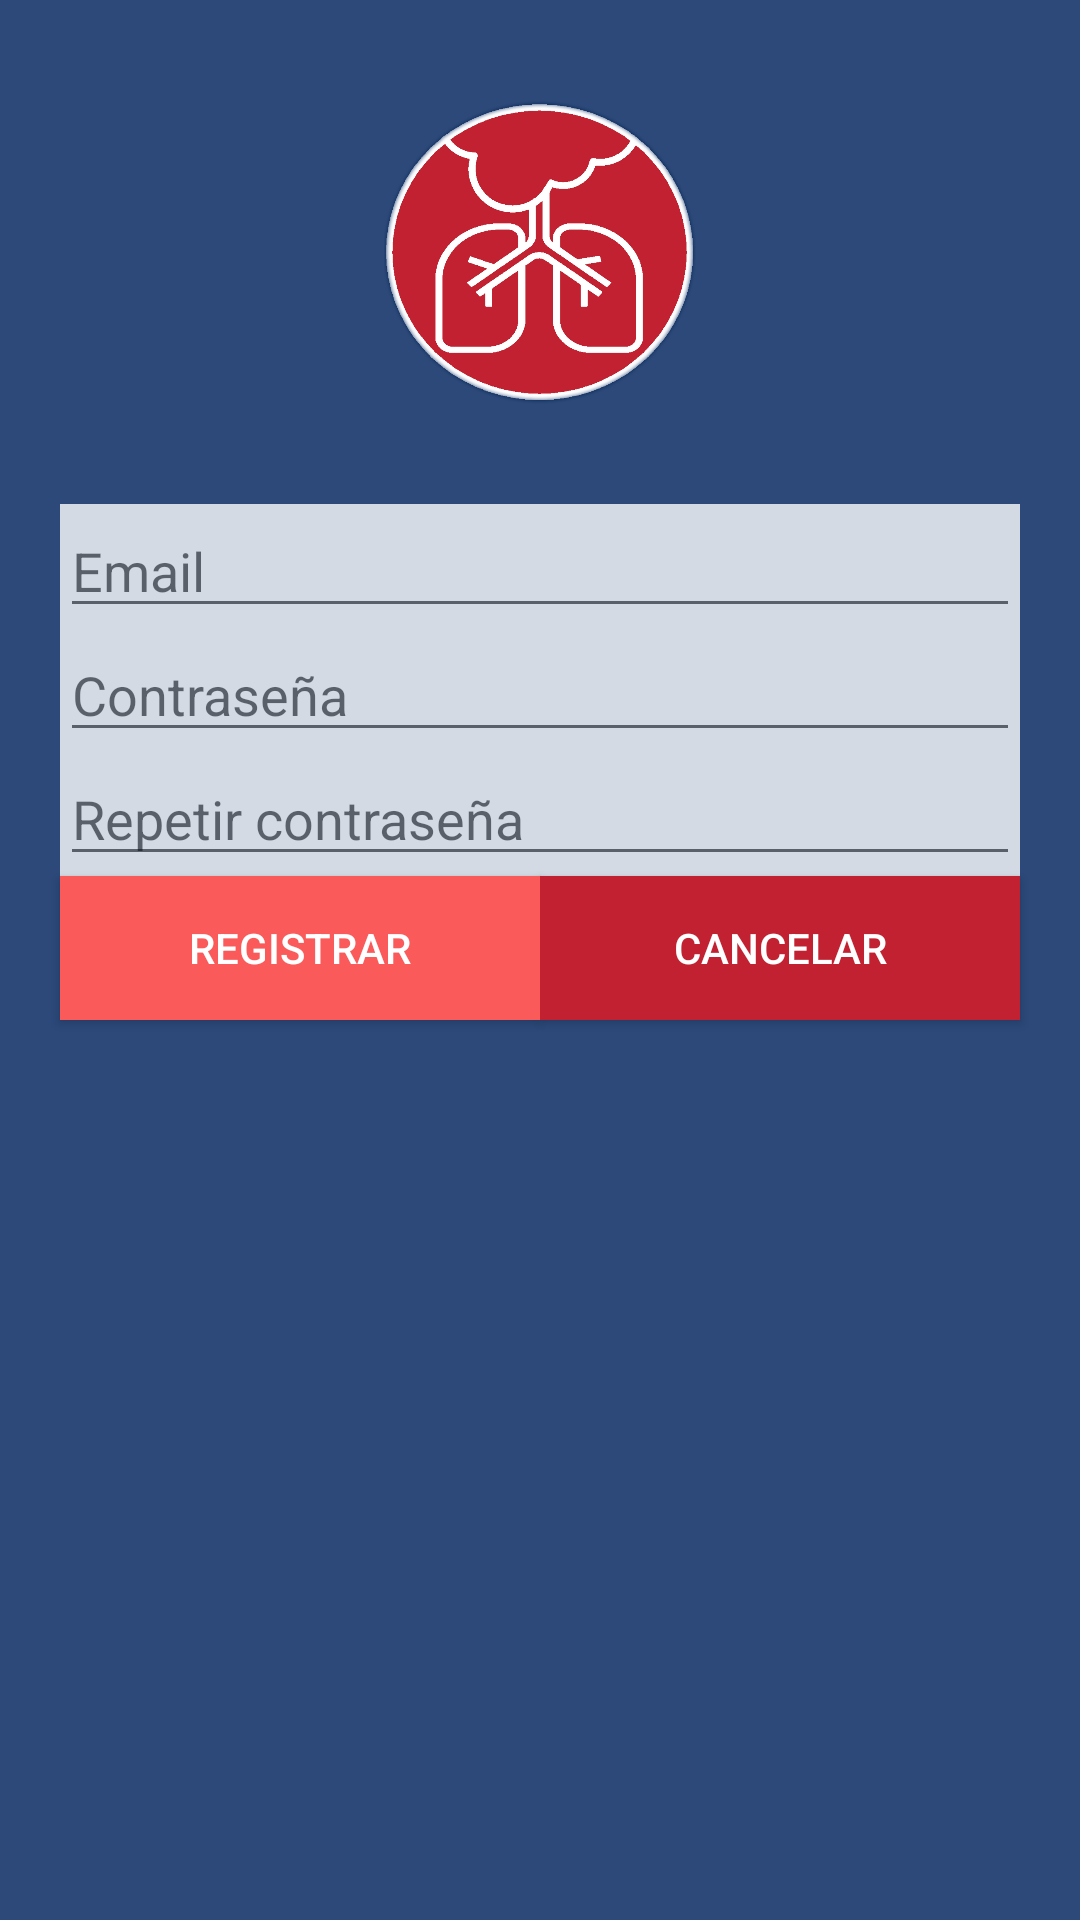

Icon click points for this 1080px×1920px phone screenshot, format [x,y]:
logazo: [539,252]
